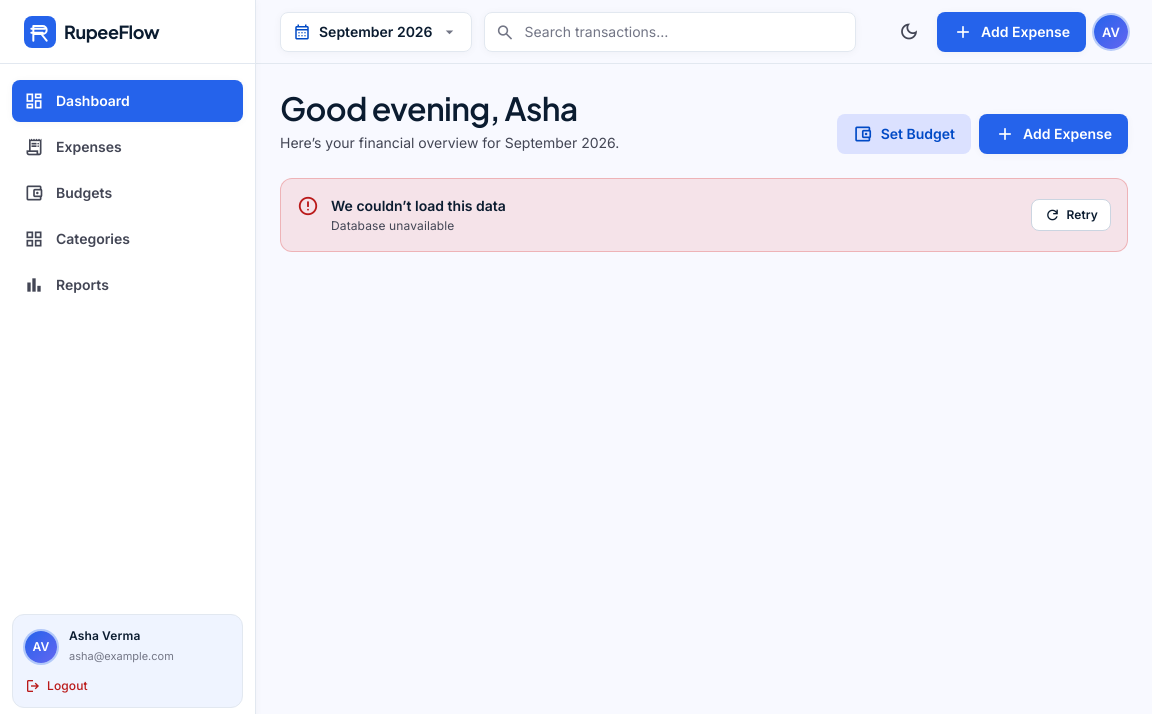
Scenario: Dashboard › shows an error banner that retries
Expected: the text "Database unavailable" is shown, [331,218,454,233]
Click the button "Retry" at (1071, 215), box [1031,199,1111,231]
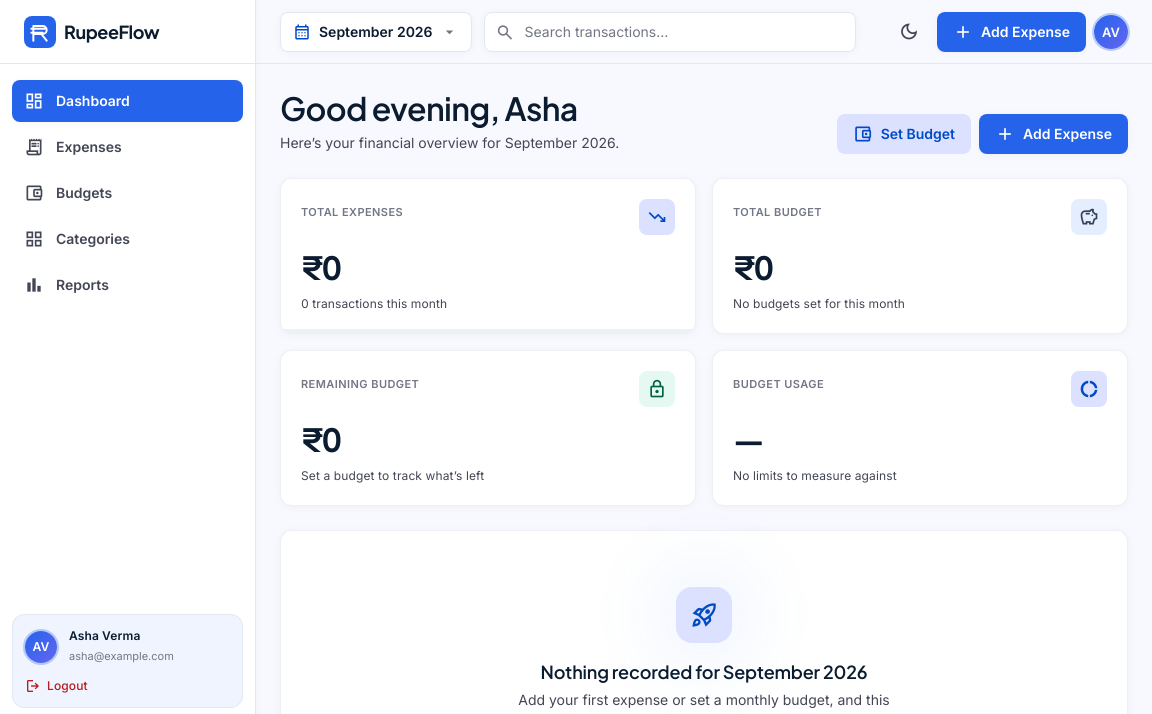
Now the heading "Nothing recorded for September 2026" is shown, box [540,659,867,685]
